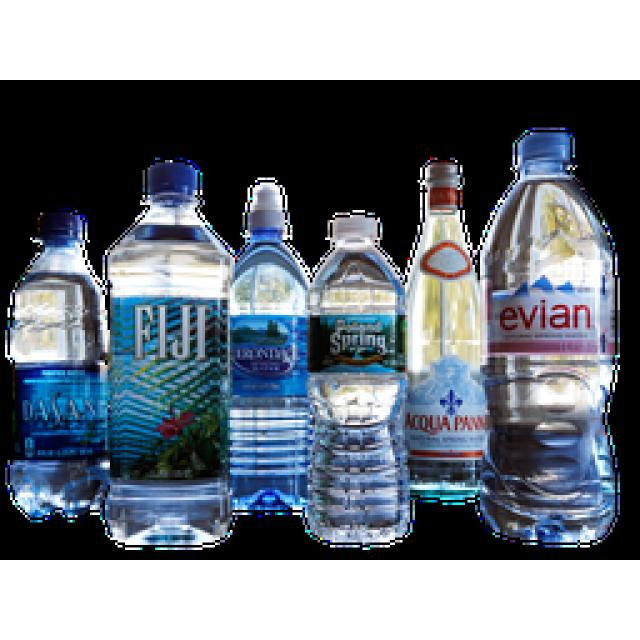plastic_water_bottles: (485, 125, 623, 548), (110, 157, 230, 540), (302, 208, 408, 545), (10, 197, 100, 523)
